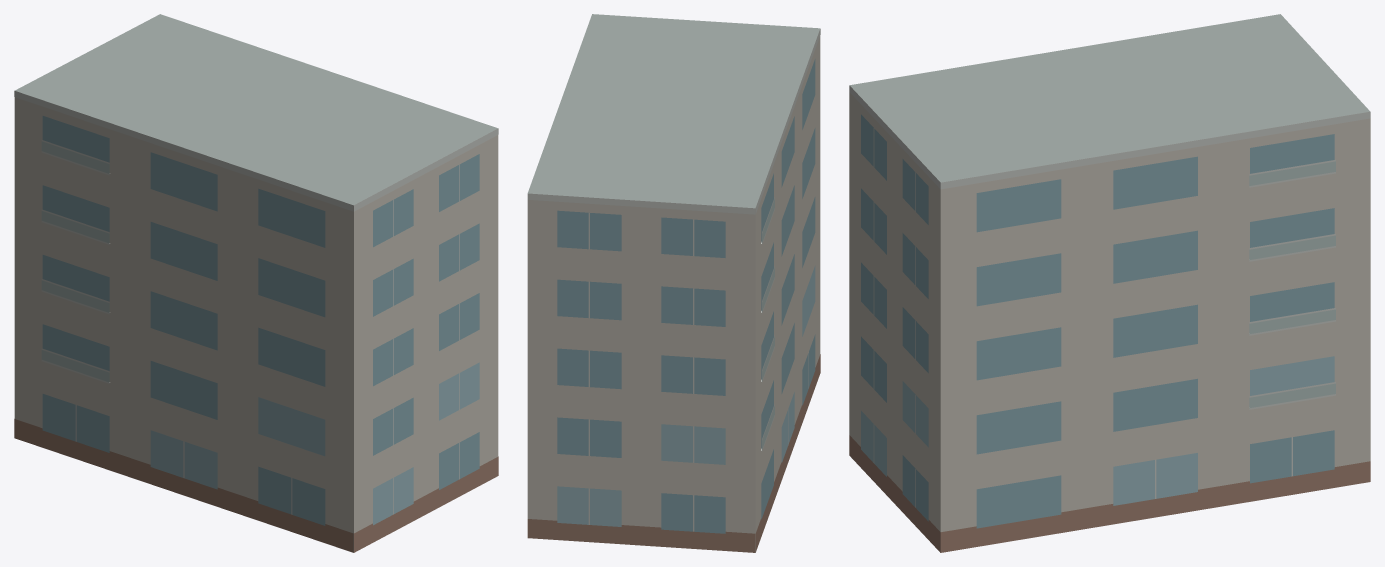
Rendered from survey-upis-32894089.glb.
3 renders of one model, left to right at view 1: azimuth 30°, elevation 25°; view 2: azimuth 150°, elevation 25°; view 3: azimuth 270°, elevation 25°, orthographic. The views are drawn at different scales.
Visible parts, largest first — view 1: survey-upis-32894089.tmp; view 2: survey-upis-32894089.tmp; view 3: survey-upis-32894089.tmp.
Boxes of the visible parts, x1,y1,x2,y2 form: survey-upis-32894089.tmp: (14,14,498,552); survey-upis-32894089.tmp: (527,14,820,552); survey-upis-32894089.tmp: (849,14,1370,552).
Size of the model in its own units: 13 by 13.3 by 16.97.
